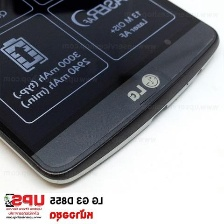phone: (0, 0, 221, 186)
